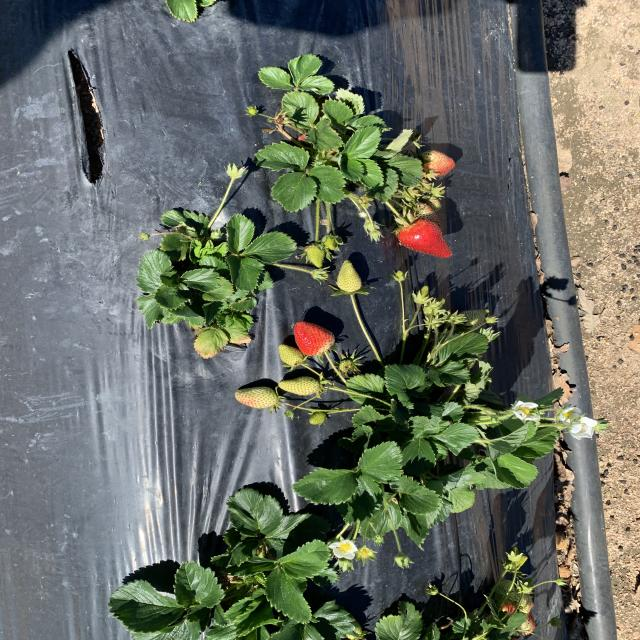unripe: (398, 218, 453, 258), (294, 321, 335, 356)
